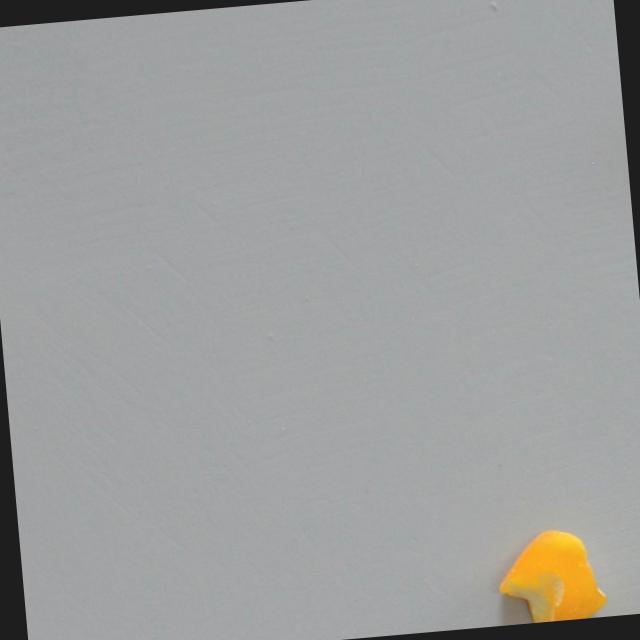no_canjicado: (492, 525, 609, 625)
